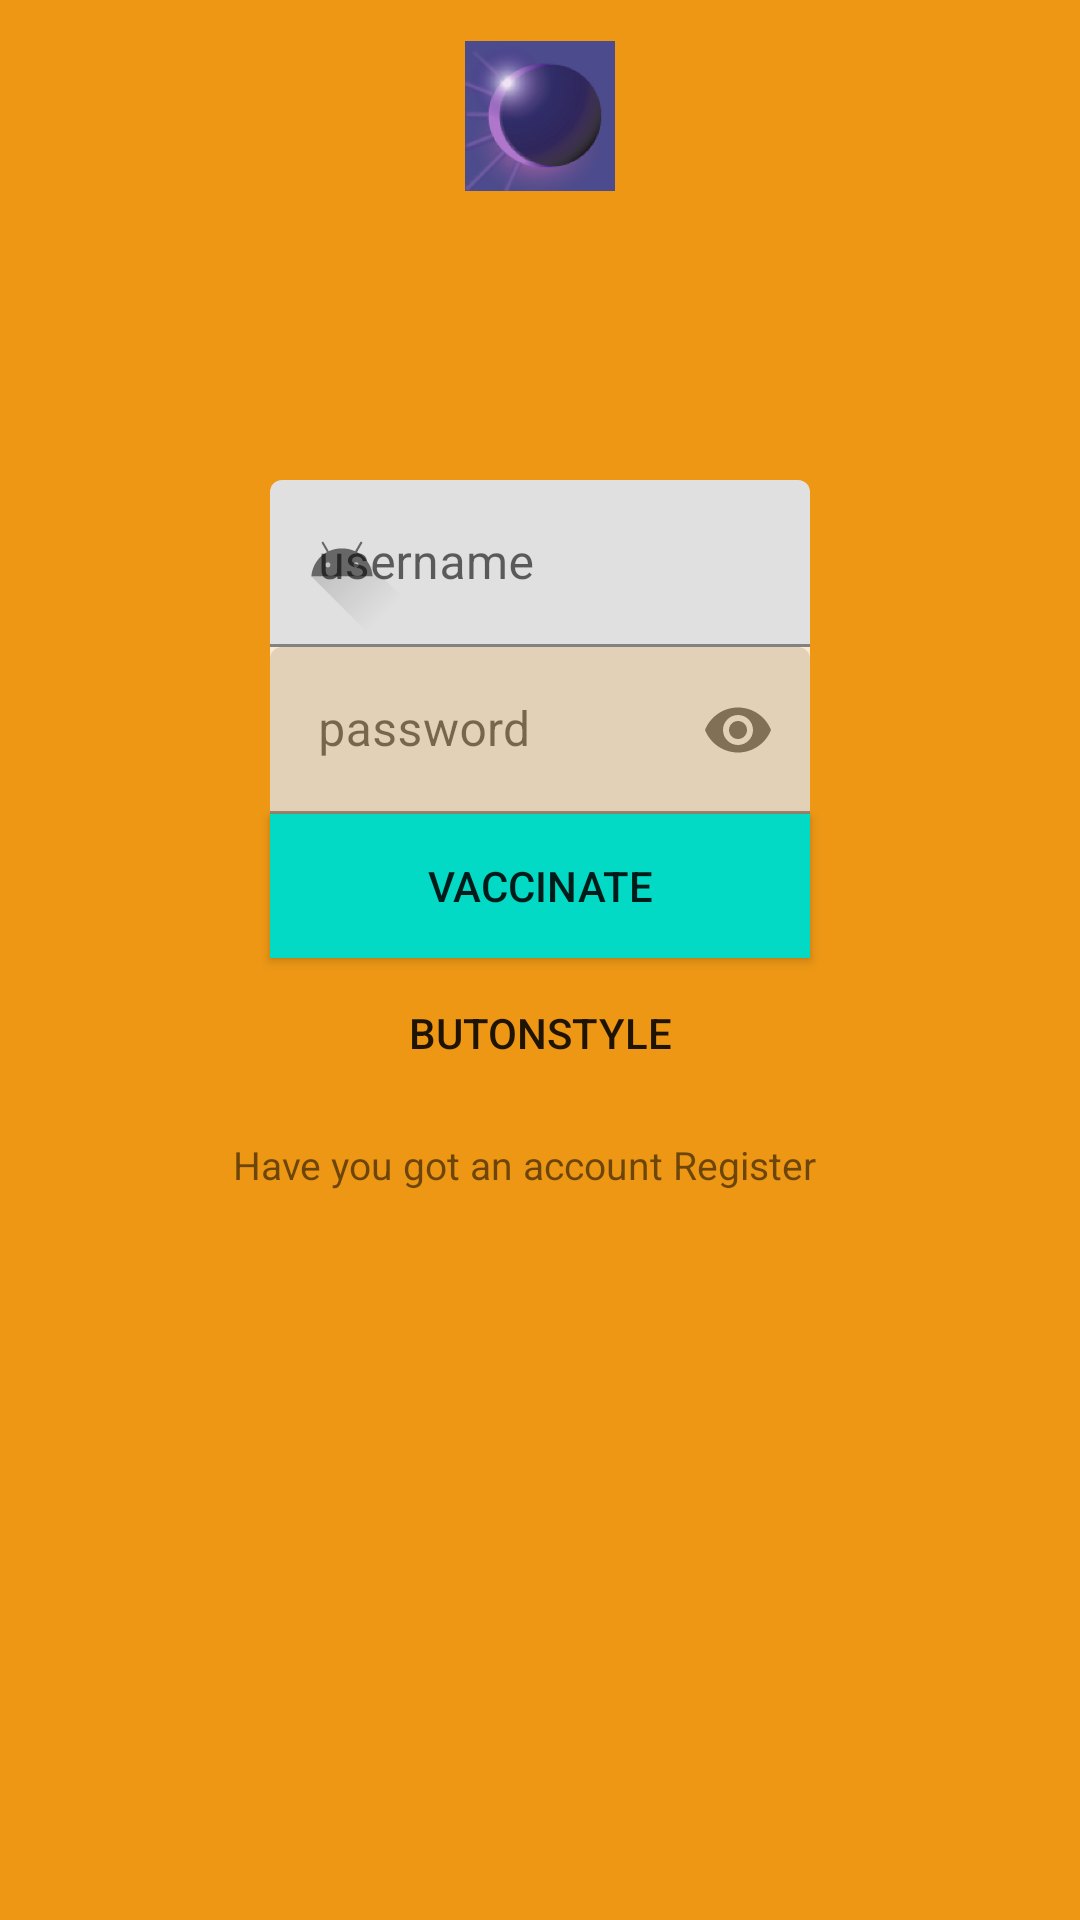

Icon click points for this 1080×1920 phone screenshot, format [x,y]:
eclipse: [540,116]
